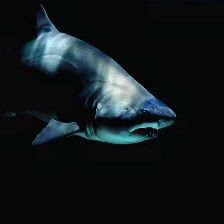shark: (3, 4, 177, 148)
